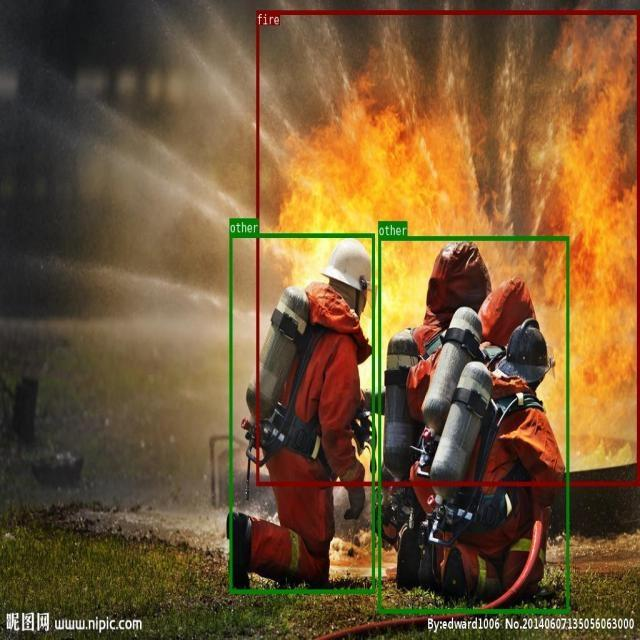fire: (256, 10, 639, 484)
